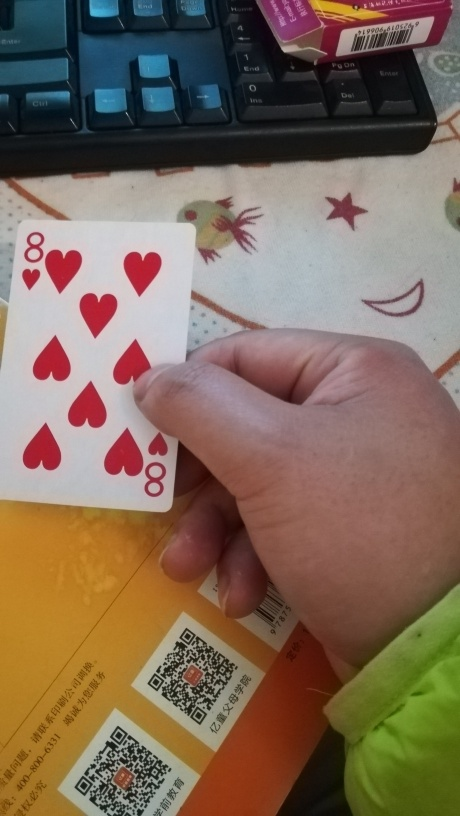hx 8: (3, 220, 194, 512)
